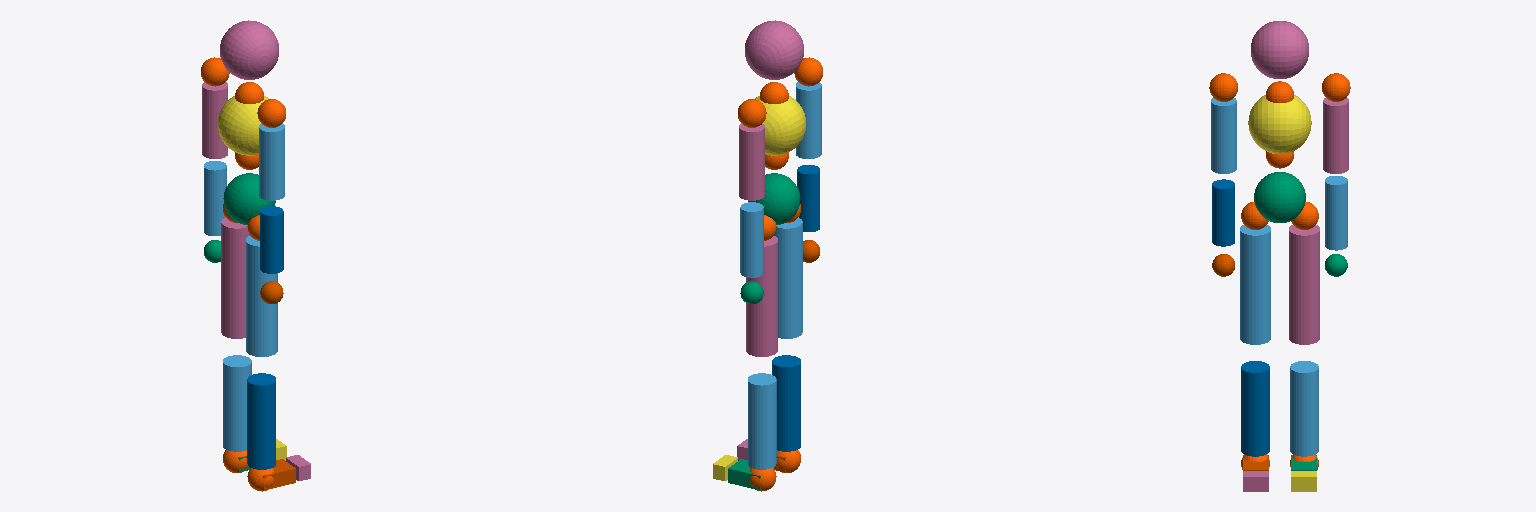
--- Render facts (derived) ---
The picture shows the robot from 3 angles, left to right: view 1: azimuth 30°, elevation 25°; view 2: azimuth 150°, elevation 25°; view 3: azimuth 270°, elevation 25°; orthographic projection.
Robot: W0001 — 35 links, 34 joints (25 revolute, 9 fixed); root link base_link; default pose: all joints at 0.
Visible links, largest first — view 1: left_hip, right_hip, neck, right_knee, left_knee, chest, right_shoulder, root, left_shoulder, right_elbow, left_elbow, chest_right_shoulder_link2 (+2 smaller); view 2: right_hip, neck, left_knee, left_hip, right_knee, chest, left_shoulder, left_elbow, right_shoulder, root, right_elbow, chest_left_shoulder_link2 (+2 smaller); view 3: right_hip, left_hip, chest, neck, right_knee, left_knee, root, right_shoulder, left_shoulder, left_elbow, right_elbow, chest_right_shoulder_link2 (+3 smaller).
Boxes of the visible links, box(x1,y1,x2,y2) form: left_hip: box(221, 217, 249, 338); right_hip: box(246, 236, 277, 356); neck: box(220, 20, 278, 79); right_knee: box(247, 373, 275, 469); left_knee: box(223, 355, 251, 451); chest: box(218, 96, 268, 155); right_shoulder: box(259, 123, 284, 200); root: box(223, 173, 275, 224); left_shoulder: box(202, 82, 227, 158); right_elbow: box(260, 206, 283, 273); left_elbow: box(204, 161, 226, 235); chest_right_shoulder_link2: box(257, 99, 285, 127); right_hip: box(774, 217, 802, 338); neck: box(745, 20, 803, 79); left_knee: box(748, 373, 776, 469); left_hip: box(746, 236, 777, 356); right_knee: box(772, 355, 800, 451); chest: box(755, 96, 805, 155); left_shoulder: box(739, 123, 764, 200); left_elbow: box(740, 202, 763, 277); right_shoulder: box(796, 82, 821, 158); root: box(748, 173, 800, 224); right_elbow: box(797, 165, 819, 231); chest_left_shoulder_link2: box(738, 99, 766, 127); right_hip: box(1240, 225, 1270, 344); left_hip: box(1289, 225, 1319, 344); chest: box(1248, 95, 1311, 153); neck: box(1251, 21, 1308, 78); right_knee: box(1241, 361, 1269, 456); left_knee: box(1290, 361, 1318, 456); root: box(1254, 172, 1305, 222); right_shoulder: box(1211, 98, 1236, 173); left_shoulder: box(1323, 98, 1348, 173); left_elbow: box(1325, 176, 1347, 250); right_elbow: box(1212, 179, 1234, 246); chest_right_shoulder_link2: box(1209, 73, 1237, 101).
Size in the robot's own frame: 0.28 by 0.49 by 1.74 metres.
Geometry: primitives only (box / cylinder / sphere), no mesh files.

The robot description file, URDF, robot "W0001":
<?xml version="1.0" ?>
            <robot name="W0001">
            <material name="orange">
                <color rgba="1.0 0.4235294117647059 0.0392156862745098 1.0"/>
            </material>
            <link name="base_link">
                </link>
            <link name="base">
                </link>
            <joint name="j_base_base_link_rotation" type="fixed">
                <parent link="base_link"/>
                <child link="base"/>
                <origin rpy="1.5707963267948966 0 0" xyz="0 0 0"/>
            </joint>
            <link name="root">
                <inertial>
                <origin rpy="0 0 0" xyz="0.0 0.07 0.0"/>
                <mass value="6.000000"/>
                <inertia ixx="0.019440000000000002" ixy="0" ixz="0" iyy="0.019440000000000002" iyz="0" izz="0.019440000000000002"/>
                </inertial>
                <collision>
                <origin rpy="0 0 0" xyz="0.000000 0.070000 0.000000"/>
                <geometry>
                    <sphere radius="0.09"/>
                </geometry>
                </collision>
                <visual>
                <origin rpy="0 0 0" xyz="0.000000 0.070000 0.000000"/>
                <geometry>
                    <sphere radius="0.09"/>
                </geometry>
                </visual>
            </link>
            <joint name="j_root" type="fixed">
                <parent link="base"/>
                <child link="root"/>
                <origin rpy="0 0 0" xyz="0 0.000000 0.000000"/>
            </joint>
            <link name="chest">
                <inertial>
                <origin rpy="0 0 0" xyz="0.000000 0.120000 0.000000"/>
                <mass value="14.000000"/>
                <inertia ixx="0.06776000000000001" ixy="0" ixz="0" iyy="0.06776000000000001" iyz="0" izz="0.06776000000000001"/>
                </inertial>
                <collision>
                <origin rpy="0 0 0" xyz="0.000000 0.120000 0.000000"/>
                <geometry>
                    <sphere radius="0.11"/>
                </geometry>
                </collision>
                <visual>
                <origin rpy="0 0 0" xyz="0.000000 0.120000 0.000000"/>
                <geometry>
                    <sphere radius="0.11"/>
                </geometry>
                </visual>
            </link>
            <link name="root_chest_link1">
                <inertial>
                <mass value="1e-02"/>
                <inertia ixx="1e-02" ixy="0" ixz="0" iyy="1e-02" iyz="0" izz="1e-02"/>
                </inertial>
           </link>
            <!-- <joint name="j_root_chest_joint1" type="revolute"> -->
            <joint name="j_root_chest_joint1" type="fixed">
                <origin rpy="0 0 0" xyz="0.0 0.236151 0.000000"/>
                <parent link="root"/>
                <child link="root_chest_link1"/>
                <axis xyz="1 0 0"/>
                <!-- <limit effort="200" lower="-1.2" upper="1.2" velocity="3"/> -->
            </joint>
            <link name="root_chest_link2">
                <inertial>
                <mass value="1e-02"/>
                <inertia ixx="1e-02" ixy="0" ixz="0" iyy="1e-02" iyz="0" izz="1e-02"/>
                </inertial>
                <visual>
                <geometry>
                    <sphere radius="0.05"/>
                </geometry>
                <material name="orange"/>
                </visual>
            </link>
            <!-- <joint name="j_root_chest_joint2" type="revolute"> -->
            <joint name="j_root_chest_joint2" type="fixed">
                <parent link="root_chest_link1"/>
                <child link="root_chest_link2"/>
                <axis xyz="0 1 0"/>
                <!-- <limit effort="200" lower="-1.2" upper="1.2" velocity="3"/> -->
            </joint>
            <!-- <joint name="j_root_chest_joint3" type="revolute"> -->
            <joint name="j_root_chest_joint3" type="fixed">
                <parent link="root_chest_link2"/>
                <child link="chest"/>
                <axis xyz="0 0 1"/>
                <!-- <limit effort="200" lower="-1.2" upper="1.2" velocity="3"/> -->
            </joint>
            <link name="neck">
                <inertial>
                <origin rpy="0 0 0" xyz="0.0 0.175 0.0"/>
                <mass value="2.000000"/>
                <inertia ixx="0.008405" ixy="0" ixz="0" iyy="0.008405" iyz="0" izz="0.008405"/>
                </inertial>
                <collision>
                <origin rpy="0 0 0" xyz="0.0 0.175 0.0"/>
                <geometry>
                    <sphere radius="0.1025"/>
                </geometry>
                </collision>
                <visual>
                <origin rpy="0 0 0" xyz="0.0 0.175 0.0"/>
                <geometry>
                    <sphere radius="0.1025"/>
                </geometry>
                </visual>
            </link>
            <link name="chest_neck_link1">
                <inertial>
                <mass value="1e-02"/>
                <inertia ixx="1e-02" ixy="0" ixz="0" iyy="1e-02" iyz="0" izz="1e-02"/>
                </inertial>
            </link>
            <joint name="j_chest_neck_joint1" type="revolute">
                <origin rpy="0 0 0" xyz="0.000000 0.223894 0.000000"/>
                <parent link="chest"/>
                <child link="chest_neck_link1"/>
                <axis xyz="1 0 0"/>
                <limit effort="50" lower="-1" upper="1" velocity="3"/>
            </joint>
            <link name="chest_neck_link2">
                <inertial>
                <mass value="1e-02"/>
                <inertia ixx="1e-02" ixy="0" ixz="0" iyy="1e-02" iyz="0" izz="1e-02"/>
                </inertial>
                <visual>
                <geometry>
                    <sphere radius="0.05"/>
                </geometry>
                <material name="orange"/>
                </visual>
            </link>
            <joint name="j_chest_neck_joint2" type="revolute">
                <parent link="chest_neck_link1"/>
                <child link="chest_neck_link2"/>
                <axis xyz="0 1 0"/>
                <limit effort="50" lower="-1" upper="1" velocity="3"/>
            </joint>
            <joint name="j_chest_neck_joint3" type="revolute">
                <parent link="chest_neck_link2"/>
                <child link="neck"/>
                <axis xyz="0 0 1"/>
                <limit effort="50" lower="-1" upper="1" velocity="3"/>
            </joint>
            <link name="right_hip">
                <inertial>
                <origin rpy="0 0 0" xyz="0.000000 -0.210000 0.000000"/>
                <mass value="4.500000"/>
                <inertia ixx="0.037153124999999995" ixy="0.0" ixz="0.0" iyy="0.037153124999999995" iyz="0.0" izz="0.00680625"/>
                </inertial>
                <collision>
                <origin rpy="1.5707963267948966 0 0" xyz="0.000000 -0.210000 0.000000"/>
                <geometry>
                    <cylinder length="0.22499999999999998" radius="0.0275"/>
                </geometry>
                </collision>
                <visual>
                <origin rpy="1.5707963267948966 0 0" xyz="0.000000 -0.25925000000000004 0.000000"/>
                <geometry>
                    <cylinder length="0.4185000000000001" radius="0.055"/>
                </geometry>
                </visual>
            </link>
            <link name="root_right_hip_link1">
                <inertial>
                <mass value="1e-02"/>
                <inertia ixx="1e-02" ixy="0" ixz="0" iyy="1e-02" iyz="0" izz="1e-02"/>
                </inertial>
            </link>
            <joint name="j_root_right_hip_joint1" type="revolute">
                <origin rpy="0 0 0" xyz="0.000000 0.000000 0.084887"/>
                <parent link="root"/>
                <child link="root_right_hip_link1"/>
                <axis xyz="1 0 0"/>
                <limit effort="200" lower="-1.5" upper="1.5" velocity="3"/>
            </joint>
            <link name="root_right_hip_link2">
                <inertial>
                <mass value="1e-02"/>
                <inertia ixx="1e-02" ixy="0" ixz="0" iyy="1e-02" iyz="0" izz="1e-02"/>
                </inertial>
                <visual>
                <geometry>
                    <sphere radius="0.05"/>
                </geometry>
                <material name="orange"/>
                </visual>
            </link>
            <joint name="j_root_right_hip_joint2" type="revolute">
                <parent link="root_right_hip_link1"/>
                <child link="root_right_hip_link2"/>
                <axis xyz="0 1 0"/>
                <limit effort="200" lower="-1.5" upper="1.5" velocity="3"/>
            </joint>
            <joint name="j_root_right_hip_joint3" type="revolute">
                <parent link="root_right_hip_link2"/>
                <child link="right_hip"/>
                <axis xyz="0 0 1"/>
                <limit effort="200" lower="-1.5" upper="1.5" velocity="3"/>
            </joint>
            <link name="right_knee">
                <inertial>
                <origin rpy="0 0 0" xyz="0.000000 -0.200000 0.000000"/>
                <mass value="3.000000"/>
                <inertia ixx="0.1" ixy="0" ixz="0" iyy="0.1" iyz="0" izz="0.1"/>
                </inertial>
                <collision>
                <origin rpy="1.5707963267948966 0 0" xyz="0.000000 -0.200000 0.000000"/>
                <geometry>
                    <cylinder length="0.23249999999999998" radius="0.025"/>
                </geometry>
                </collision>
                <visual>
                <origin rpy="1.5707963267948966 0 0" xyz="0.000000 -0.2 0.000000"/>
                <geometry>
                    <cylinder length="0.32" radius="0.05"/>
                </geometry>
                </visual>
            </link>
            <joint name="j_right_knee" type="revolute">
                <parent link="right_hip"/>
                <child link="right_knee"/>
                <limit effort="150.0" lower="-3.14" upper="0." velocity="0.5"/>
                <origin rpy="0 0 0" xyz="0.000000 -0.5385000000000002 0.000000"/>
                <axis xyz="0.000000 0.000000 1.000000"/>
            </joint>
            <link name="right_ankle">
                <inertial>
                <origin rpy="0 0 0" xyz="0.045 -0.00225 0.000000"/>
                <mass value="1.000000"/>
                <inertia ixx="0.0009270833333333333" ixy="0.0" ixz="0.0" iyy="0.0028628333333333327" iyz="0.0" izz="0.003285749999999999"/>
                </inertial>
                <collision>
                <origin rpy="0 0 0" xyz="0.045 -0.00225 0.000000"/>
                <geometry>
                    <box size="0.127 0.055 0.09"/>
                </geometry>
                </collision>
                <visual>
                <origin rpy="0 0 0" xyz="0.045 -0.00225 0.000000"/>
                <geometry>
                    <box size="0.127 0.055 0.09"/>
                </geometry>
                </visual>
            </link>
            <joint name="j_right_toe" type="fixed">
                <parent link="right_ankle"/>
                <child link="right_toe"/>
                <limit effort="150.0" lower="-3.14" upper="0." velocity="0.5"/>
                <origin rpy="0 0 0" xyz="0.1 0.0 0.0"/>
                <axis xyz="0.000000 0.000000 1.000000"/>
            </joint>
            <link name="right_toe">
                <inertial>
                <origin rpy="0 0 0" xyz="0.045 0.0 0.0"/>
                <mass value="0.3"/>
                <inertia ixx="0.0009270833333333333" ixy="0.0" ixz="0.0" iyy="0.0028628333333333327" iyz="0.0" izz="0.003285749999999999"/>
                </inertial>
                <collision>
                <origin rpy="0 0 0" xyz="0.045 0.0 0.0"/>
                <geometry>
                    <box size="0.05 0.055 0.09"/>
                </geometry>
                </collision>
                <visual>
                <origin rpy="0 0 0" xyz="0.045 0.0 0.0"/>
                <geometry>
                    <box size="0.05 0.055 0.09"/>
                </geometry>
                </visual>
            </link>
            <link name="right_knee_right_ankle_link1">
                <inertial>
                <mass value="1e-02"/>
                <inertia ixx="1e-02" ixy="0" ixz="0" iyy="1e-02" iyz="0" izz="1e-02"/>
                </inertial>
            </link>
            <joint name="j_right_knee_right_ankle_joint1" type="revolute">
                <origin rpy="0 0 0" xyz="0.000000 -0.41000000000000003 0.000000"/>
                <parent link="right_knee"/>
                <child link="right_knee_right_ankle_link1"/>
                <axis xyz="1 0 0"/>
                <limit effort="90" lower="-1.2" upper="1.2" velocity="3"/>
            </joint>
            <link name="right_knee_right_ankle_link2">
                <inertial>
                <mass value="1e-02"/>
                <inertia ixx="1e-02" ixy="0" ixz="0" iyy="1e-02" iyz="0" izz="1e-02"/>
                </inertial>
                <visual>
                <geometry>
                    <sphere radius="0.05"/>
                </geometry>
                <material name="orange"/>
                </visual>
            </link>
            <joint name="j_right_knee_right_ankle_joint2" type="revolute">
                <parent link="right_knee_right_ankle_link1"/>
                <child link="right_knee_right_ankle_link2"/>
                <axis xyz="0 1 0"/>
                <limit effort="90" lower="-1.2" upper="1.2" velocity="3"/>
            </joint>
            <joint name="j_right_knee_right_ankle_joint3" type="revolute">
                <parent link="right_knee_right_ankle_link2"/>
                <child link="right_ankle"/>
                <axis xyz="0 0 1"/>
                <limit effort="90" lower="-1.2" upper="1.2" velocity="3"/>
            </joint>
            <link name="right_shoulder">
                <inertial>
                <origin rpy="0 0 0" xyz="0.000000 -0.140000 0.000000"/>
                <mass value="1.500000"/>
                <inertia ixx="0.004809374999999999" ixy="0.0" ixz="0.0" iyy="0.004809374999999999" iyz="0.0" izz="0.0015187500000000001"/>
                </inertial>
                <collision>
                <origin rpy="1.5707963267948966 0 0" xyz="0.000000 -0.140000 0.000000"/>
                <geometry>
                    <cylinder length="0.135" radius="0.0225"/>
                </geometry>
                </collision>
                <visual>
                <origin rpy="1.5707963267948966 0 0" xyz="0.000000 -0.18 0.000000"/>
                <geometry>
                    <cylinder length="0.26" radius="0.045"/>
                </geometry>
                </visual>
            </link>
            <link name="chest_right_shoulder_link1">
                <inertial>
                <mass value="1e-02"/>
                <inertia ixx="1e-02" ixy="0" ixz="0" iyy="1e-02" iyz="0" izz="1e-02"/>
                </inertial>
            </link>
            <joint name="j_chest_right_shoulder_joint1" type="revolute">
                <origin rpy="0 0 0" xyz="-0.02406 0.24350 0.195"/>
                <parent link="chest"/>
                <child link="chest_right_shoulder_link1"/>
                <axis xyz="1 0 0"/>
                <limit effort="100" lower="-3.14" upper="3.14" velocity="3"/>
            </joint>
            <link name="chest_right_shoulder_link2">
                <inertial>
                <mass value="1e-02"/>
                <inertia ixx="1e-02" ixy="0" ixz="0" iyy="1e-02" iyz="0" izz="1e-02"/>
                </inertial>
                <visual>
                <geometry>
                    <sphere radius="0.05"/>
                </geometry>
                <material name="orange"/>
                </visual>
            </link>
            <joint name="j_chest_right_shoulder_joint2" type="revolute">
                <parent link="chest_right_shoulder_link1"/>
                <child link="chest_right_shoulder_link2"/>
                <axis xyz="0 1 0"/>
                <limit effort="100" lower="-3.14" upper="3.14" velocity="3"/>
            </joint>
            <joint name="j_chest_right_shoulder_joint3" type="revolute">
                <parent link="chest_right_shoulder_link2"/>
                <child link="right_shoulder"/>
                <axis xyz="0 0 1"/>
                <limit effort="100" lower="-3.14" upper="3.14" velocity="3"/>
            </joint>
            <link name="right_elbow">
                <inertial>
                <origin rpy="0 0 0" xyz="0.000000 -0.120000 0.000000"/>
                <mass value="1.000000"/>
                <inertia ixx="0.0019187499999999999" ixy="0.0" ixz="0.0" iyy="0.0019187499999999999" iyz="0.0" izz="0.0008"/>
                </inertial>
                <collision>
                <origin rpy="1.5707963267948966 0 0" xyz="0.0 -0.12 0.0"/>
                <geometry>
                    <cylinder length="0.10125" radius="0.02"/>
                </geometry>
                </collision>
                <visual>
                <origin rpy="1.5707963267948966 0 0" xyz="0.0 -0.12 0.0"/>
                <geometry>
                    <cylinder length="0.22" radius="0.04"/>
                </geometry>
                </visual>
            </link>
            <joint name="j_right_elbow" type="revolute">
                <parent link="right_shoulder"/>
                <child link="right_elbow"/>
                <limit effort="60.0" lower="0" upper="3.14" velocity="0.5"/>
                <origin rpy="0 0 0" xyz="0.000000 -0.36 0.000000"/>
                <axis xyz="0.000000 0.000000 1.000000"/>
            </joint>
            <link name="right_wrist">
                <inertial>
                <origin rpy="0 0 0" xyz="0.000000 0.000000 0.000000"/>
                <mass value="0.500000"/>
                <inertia ixx="0.00032" ixy="0" ixz="0" iyy="0.00032" iyz="0" izz="0.00032"/>
                </inertial>
                <collision>
                <origin rpy="0 0 0" xyz="0.000000 0.000000 0.000000"/>
                <geometry>
                    <sphere radius="0.04"/>
                </geometry>
                </collision>
                <visual>
                <origin rpy="0 0 0" xyz="0.000000 0.000000 0.000000"/>
                <geometry>
                    <sphere radius="0.04"/>
                </geometry>
                </visual>
            </link>
            <joint name="j_right_wrist" type="fixed">
                <parent link="right_elbow"/>
                <child link="right_wrist"/>
                <origin rpy="0 0 0" xyz="0.000000 -0.32 0.000000"/>
            </joint>
            <link name="left_hip">
                <inertial>
                <origin rpy="0 0 0" xyz="0.000000 -0.210000 0.000000"/>
                <mass value="4.500000"/>
                <inertia ixx="0.037153124999999995" ixy="0.0" ixz="0.0" iyy="0.037153124999999995" iyz="0.0" izz="0.00680625"/>
                </inertial>
                <collision>
                <origin rpy="1.5707963267948966 0 0" xyz="0.000000 -0.210000 0.000000"/>
                <geometry>
                    <cylinder length="0.22499999999999998" radius="0.0275"/>
                </geometry>
                </collision>
                <visual>
                <origin rpy="1.5707963267948966 0 0" xyz="0.000000 -0.25925000000000004 0.000000"/>
                <geometry>
                    <cylinder length="0.4185000000000001" radius="0.055"/>
                </geometry>
                </visual>
            </link>
            <link name="root_left_hip_link1">
                <inertial>
                <mass value="1e-02"/>
                <inertia ixx="1e-02" ixy="0" ixz="0" iyy="1e-02" iyz="0" izz="1e-02"/>
                </inertial>
            </link>
            <joint name="j_root_left_hip_joint1" type="revolute">
                <origin rpy="0 0 0" xyz="0.000000 0.000000 -0.084887"/>
                <parent link="root"/>
                <child link="root_left_hip_link1"/>
                <axis xyz="1 0 0"/>
                <limit effort="200" lower="-1.5" upper="1.5" velocity="3"/>
            </joint>
            <link name="root_left_hip_link2">
                <inertial>
                <mass value="1e-02"/>
                <inertia ixx="1e-02" ixy="0" ixz="0" iyy="1e-02" iyz="0" izz="1e-02"/>
                </inertial>
                <visual>
                <geometry>
                    <sphere radius="0.05"/>
                </geometry>
                <material name="orange"/>
                </visual>
            </link>
            <joint name="j_root_left_hip_joint2" type="revolute">
                <parent link="root_left_hip_link1"/>
                <child link="root_left_hip_link2"/>
                <axis xyz="0 1 0"/>
                <limit effort="200" lower="-1.5" upper="1.5" velocity="3"/>
            </joint>
            <joint name="j_root_left_hip_joint3" type="revolute">
                <parent link="root_left_hip_link2"/>
                <child link="left_hip"/>
                <axis xyz="0 0 1"/>
                <limit effort="200" lower="-1.5" upper="1.5" velocity="3"/>
            </joint>
            <link name="left_knee">
                <inertial>
                <origin rpy="0 0 0" xyz="0.000000 -0.200000 0.000000"/>
                <mass value="3.000000"/>
                <inertia ixx="0.025900000000000003" ixy="0.0" ixz="0.0" iyy="0.025900000000000003" iyz="0.0" izz="0.0037500000000000007"/>
                </inertial>
                <collision>
                <origin rpy="1.5707963267948966 0 0" xyz="0.000000 -0.200000 0.000000"/>
                <geometry>
                    <cylinder length="0.23249999999999998" radius="0.025"/>
                </geometry>
                </collision>
                <visual>
                <origin rpy="1.5707963267948966 0 0" xyz="0.000000 -0.2 0.000000"/>
                <geometry>
                    <cylinder length="0.32" radius="0.05"/>
                </geometry>
                </visual>
            </link>
            <joint name="j_left_knee" type="revolute">
                <parent link="left_hip"/>
                <child link="left_knee"/>
                <limit effort="150.0" lower="-3.14" upper="0." velocity="0.5"/>
                <origin rpy="0 0 0" xyz="0.000000 -0.5385000000000002 0.000000"/>
                <axis xyz="0.000000 0.000000 1.000000"/>
            </joint>
            <link name="left_ankle">
                <inertial>
                <origin rpy="0 0 0" xyz="0.045 -0.00225 0.0"/>
                <mass value="0.7"/>
                <inertia ixx="0.0009270833333333333" ixy="0.0" ixz="0.0" iyy="0.0028628333333333327" iyz="0.0" izz="0.003285749999999999"/>
                </inertial>
                <collision>
                <origin rpy="0 0 0" xyz="0.045 -0.00225 0.0"/>
                <geometry>
                    <box size="0.127 0.055 0.09"/>
                </geometry>
                </collision>
                <visual>
                <origin rpy="0 0 0" xyz="0.045 -0.00225 0.0"/>
                <geometry>
                    <box size="0.127 0.055 0.09"/>
                </geometry>
                </visual>
            </link>
            <joint name="j_left_toe" type="fixed">
                <parent link="left_ankle"/>
                <child link="left_toe"/>
                <limit effort="150.0" lower="-3.14" upper="0." velocity="0.5"/>
                <origin rpy="0 0 0" xyz="0.1 0.0 0.0"/>
                <axis xyz="0.000000 0.000000 1.000000"/>
            </joint>
            <link name="left_toe">
                <inertial>
                <origin rpy="0 0 0" xyz="0.045 0.0 0.0"/>
                <mass value="0.3"/>
                <inertia ixx="0.0009270833333333333" ixy="0.0" ixz="0.0" iyy="0.0028628333333333327" iyz="0.0" izz="0.003285749999999999"/>
                </inertial>
                <collision>
                <origin rpy="0 0 0" xyz="0.045 0.0 0.0"/>
                <geometry>
                    <box size="0.05 0.055 0.09"/>
                </geometry>
                </collision>
                <visual>
                <origin rpy="0 0 0" xyz="0.045 0.0 0.0"/>
                <geometry>
                    <box size="0.05 0.055 0.09"/>
                </geometry>
                </visual>
            </link>
            <link name="left_knee_left_ankle_link1">
                <inertial>
                <mass value="1e-02"/>
                <inertia ixx="1e-02" ixy="0" ixz="0" iyy="1e-02" iyz="0" izz="1e-02"/>
                </inertial>
            </link>
            <joint name="j_left_knee_left_ankle_joint1" type="revolute">
                <origin rpy="0 0 0" xyz="0.000000 -0.41000000000000003 0.000000"/>
                <parent link="left_knee"/>
                <child link="left_knee_left_ankle_link1"/>
                <axis xyz="1 0 0"/>
                <limit effort="90" lower="-1.2" upper="1.2" velocity="3"/>
            </joint>
            <link name="left_knee_left_ankle_link2">
                <inertial>
                <mass value="1e-02"/>
                <inertia ixx="1e-02" ixy="0" ixz="0" iyy="1e-02" iyz="0" izz="1e-02"/>
                </inertial>
                <visual>
                <geometry>
                    <sphere radius="0.05"/>
                </geometry>
                <material name="orange"/>
                </visual>
            </link>
            <joint name="j_left_knee_left_ankle_joint2" type="revolute">
                <parent link="left_knee_left_ankle_link1"/>
                <child link="left_knee_left_ankle_link2"/>
                <axis xyz="0 1 0"/>
                <limit effort="90" lower="-1.2" upper="1.2" velocity="3"/>
            </joint>
            <joint name="j_left_knee_left_ankle_joint3" type="revolute">
                <parent link="left_knee_left_ankle_link2"/>
                <child link="left_ankle"/>
                <axis xyz="0 0 1"/>
                <limit effort="90" lower="-1.2" upper="1.2" velocity="3"/>
            </joint>
            <link name="left_shoulder">
                <inertial>
                <origin rpy="0 0 0" xyz="0.000000 -0.140000 0.000000"/>
                <mass value="1.500000"/>
                <inertia ixx="0.004809374999999999" ixy="0.0" ixz="0.0" iyy="0.004809374999999999" iyz="0.0" izz="0.0015187500000000001"/>
                </inertial>
                <collision>
                <origin rpy="1.5707963267948966 0 0" xyz="0.000000 -0.140000 0.000000"/>
                <geometry>
                    <cylinder length="0.135" radius="0.0225"/>
                </geometry>
                </collision>
                <visual>
                <origin rpy="1.5707963267948966 0 0" xyz="0.000000 -0.18 0.000000"/>
                <geometry>
                    <cylinder length="0.26" radius="0.045"/>
                </geometry>
                </visual>
            </link>
            <link name="chest_left_shoulder_link1">
                <inertial>
                <mass value="1e-02"/>
                <inertia ixx="1e-02" ixy="0" ixz="0" iyy="1e-02" iyz="0" izz="1e-02"/>
                </inertial>
            </link>
            <joint name="j_chest_left_shoulder_joint1" type="revolute">
                <origin rpy="0 0 0" xyz="-0.02405 0.24350 -0.195"/>
                <parent link="chest"/>
                <child link="chest_left_shoulder_link1"/>
                <axis xyz="1 0 0"/>
                <limit effort="100" lower="-3.14" upper="3.14" velocity="3"/>
            </joint>
            <link name="chest_left_shoulder_link2">
                <inertial>
                <mass value="1e-02"/>
                <inertia ixx="1e-02" ixy="0" ixz="0" iyy="1e-02" iyz="0" izz="1e-02"/>
                </inertial>
                <visual>
                <geometry>
                    <sphere radius="0.05"/>
                </geometry>
                <material name="orange"/>
                </visual>
            </link>
            <joint name="j_chest_left_shoulder_joint2" type="revolute">
                <parent link="chest_left_shoulder_link1"/>
                <child link="chest_left_shoulder_link2"/>
                <axis xyz="0 1 0"/>
                <!-- <limit effort="100" lower="-3.14" upper="3.14" velocity="3"/> -->
                <limit effort="100" lower="-0.01" upper="0.01" velocity="3"/>
            </joint>
            <joint name="j_chest_left_shoulder_joint3" type="revolute">
                <parent link="chest_left_shoulder_link2"/>
                <child link="left_shoulder"/>
                <axis xyz="0 0 1"/>
                <!-- <limit effort="100" lower="-3.14" upper="3.14" velocity="3"/> -->
                <limit effort="100" lower="-0.01" upper="0.01" velocity="3"/>
            </joint>
            <link name="left_elbow">
                <inertial>
                <origin rpy="0 0 0" xyz="0.000000 -0.12 0.000000"/>
                <mass value="1.000000"/>
                <inertia ixx="0.0019187499999999999" ixy="0.0" ixz="0.0" iyy="0.0019187499999999999" iyz="0.0" izz="0.0008"/>
                </inertial>
                <collision>
                <origin rpy="1.5707963267948966 0 0" xyz="0.000000 -0.12 0.000000"/>
                <geometry>
                    <cylinder length="0.24" radius="0.04"/>
                </geometry>
                </collision>
                <visual>
                <origin rpy="1.5707963267948966 0 0" xyz="0.000000 -0.12 0.000000"/>
                <geometry>
                    <cylinder length="0.25" radius="0.04"/>
                </geometry>
                </visual>
            </link>
            <joint name="j_left_elbow" type="revolute">
                <parent link="left_shoulder"/>
                <child link="left_elbow"/>
                <limit effort="60.0" lower="0" upper="3.14" velocity="0.5"/>
                <origin rpy="0 0 0" xyz="0.000000 -0.36 0.000000"/>
                <axis xyz="0.000000 0.000000 1.000000"/>
            </joint>
            <link name="left_wrist">
                <inertial>
                <origin rpy="0 0 0" xyz="0.000000 0.000000 0.000000"/>
                <mass value="0.500000"/>
                <inertia ixx="0.00032" ixy="0" ixz="0" iyy="0.00032" iyz="0" izz="0.00032"/>
                </inertial>
                <collision>
                <origin rpy="0 0 0" xyz="0.000000 0.000000 0.000000"/>
                <geometry>
                    <sphere radius="0.04"/>
                </geometry>
                </collision>
                <visual>
                <origin rpy="0 0 0" xyz="0.000000 0.000000 0.000000"/>
                <geometry>
                    <sphere radius="0.04"/>
                </geometry>
                </visual>
            </link>
            <joint name="j_left_wrist_joint" type="fixed">
                <parent link="left_elbow"/>
                <child link="left_wrist"/>
                <origin rpy="0 0 0" xyz="0.000000 -0.32 0.000000"/>
            </joint>
            </robot>
            
